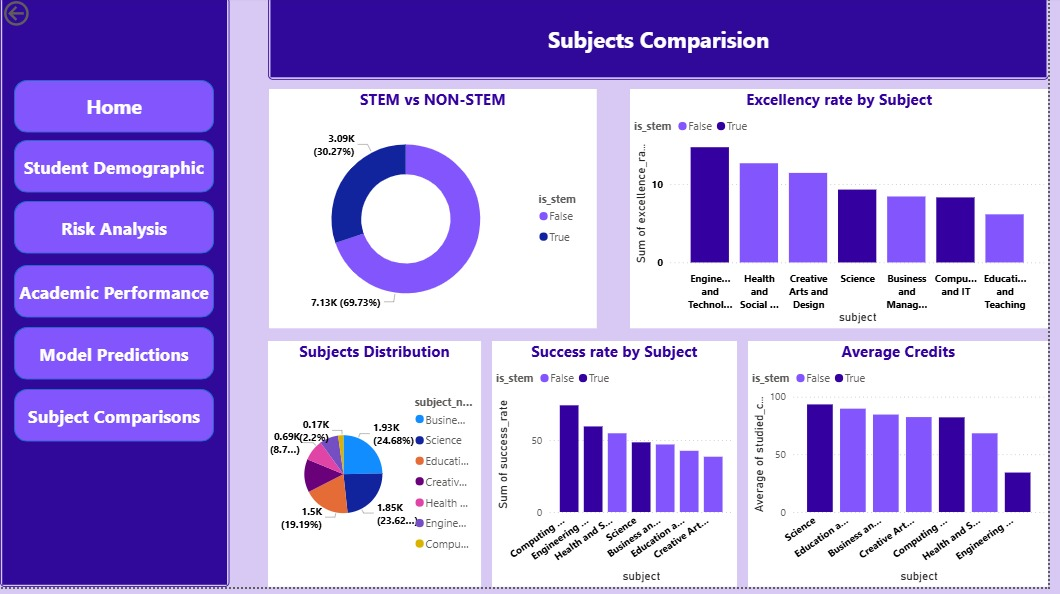

The dashboard page shown, as its layout file describes it:
{"tool":"powerbi","page":{"name":"Subject Comparisons","canvas":[1280,720],"ordinal":5},"visuals":[{"type":"shape","box":[0,0,280,720],"z":0},{"type":"shape","box":[326.7,0,953.3,101.3],"z":1000},{"type":"donutChart","title":"STEM vs NON-STEM","fields":{"Category":["comprehensive_data.is_stem"],"Y":["CountNonNull(comprehensive_data.is_stem)"]},"box":[328,112,400,292],"z":2000},{"type":"columnChart","title":"Success rate by Subject","fields":{"Category":["performance_by_subject.subject"],"Series":["performance_by_subject.is_stem"],"Y":["Sum(performance_by_subject.success_rate)"]},"box":[600,420,298.7,300],"z":3000},{"type":"columnChart","title":"Excellency rate by Subject","fields":{"Category":["performance_by_subject.subject"],"Series":["performance_by_subject.is_stem"],"Y":["Sum(performance_by_subject.excellence_rate)"]},"box":[769.3,112,510.7,292],"z":4000},{"type":"columnChart","title":"Average Credits","fields":{"Category":["performance_by_subject.subject"],"Y":["Avg(comprehensive_data.studied_credits)"],"Series":["comprehensive_data.is_stem"]},"box":[913.3,420,366.7,300],"z":5000},{"type":"pieChart","title":"Subjects Distribution","fields":{"Category":["comprehensive_data.subject_name"],"Y":["Count(comprehensive_data.id_student)"]},"box":[327.6,419.8,260.1,300],"z":6000},{"type":"shape","box":[17.1,101.4,244.3,64.3],"z":7000},{"type":"shape","box":[17.1,174.3,244.3,64.3],"z":8000},{"type":"shape","box":[17.1,478.6,244.3,64.3],"z":9000},{"type":"shape","box":[17.1,402.9,244.3,64.3],"z":10000},{"type":"shape","box":[17.1,327.1,244.3,64.3],"z":11000},{"type":"shape","box":[17.1,248.6,244.3,64.3],"z":12000},{"type":"actionButton","box":[0,0,100,40],"z":13000}]}

Visuals, with their boxes in screenshot pixels (x1, y1, x2, y2), scaled from the page's 1280x720 canvas onto the 1060x594 screenshot:
shape: 0:0:232:593
shape: 271:0:1059:84
"STEM vs NON-STEM" donutChart: 272:92:603:333
"Success rate by Subject" columnChart: 497:346:744:593
"Excellency rate by Subject" columnChart: 637:92:1059:333
"Average Credits" columnChart: 756:346:1059:593
"Subjects Distribution" pieChart: 271:346:487:593
shape: 14:84:216:137
shape: 14:144:216:197
shape: 14:395:216:448
shape: 14:332:216:385
shape: 14:270:216:323
shape: 14:205:216:258
actionButton: 0:0:83:33
